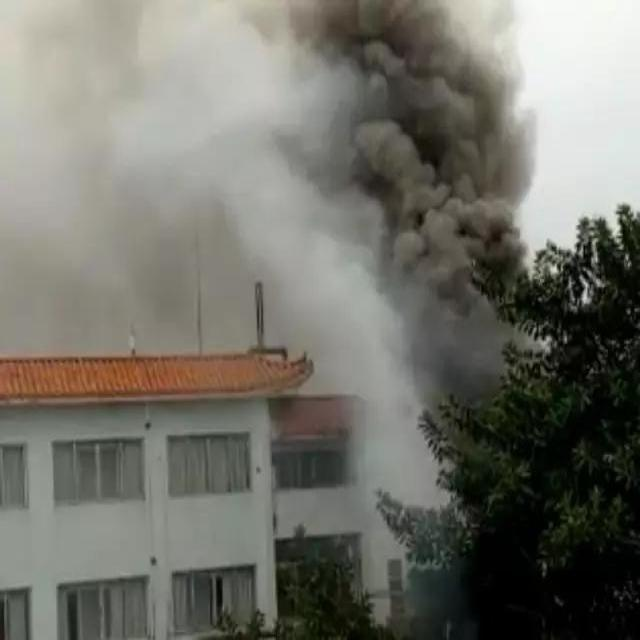Smoke: (0, 1, 538, 358)
